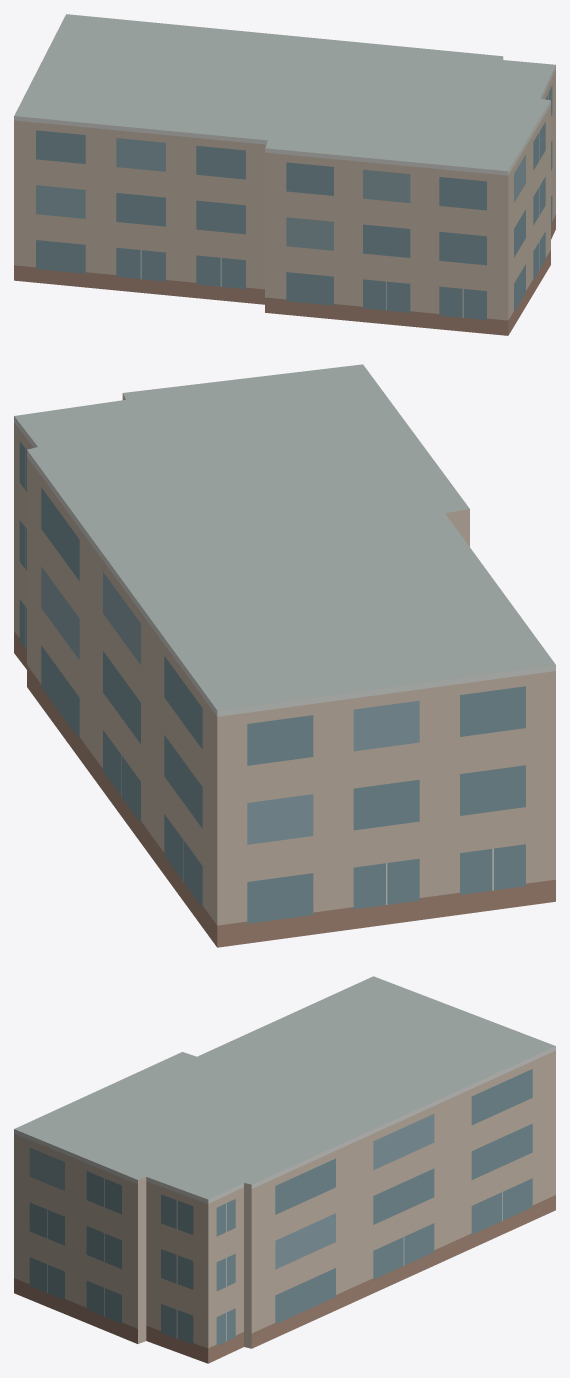
File: survey-upis-32603208.glb
The picture shows the model from 3 angles, top to bottom: view 1: azimuth 30°, elevation 25°; view 2: azimuth 150°, elevation 25°; view 3: azimuth 270°, elevation 25°; orthographic projection. The views are drawn at different scales.
Visible parts, largest first — view 1: survey-upis-32603208.tmp; view 2: survey-upis-32603208.tmp; view 3: survey-upis-32603208.tmp.
Boxes of the visible parts, <box> form: survey-upis-32603208.tmp: <box>14,14,555,335</box>; survey-upis-32603208.tmp: <box>14,364,555,947</box>; survey-upis-32603208.tmp: <box>14,976,555,1363</box>.
Size of the model in its own units: 26.71 by 9.15 by 27.38.
